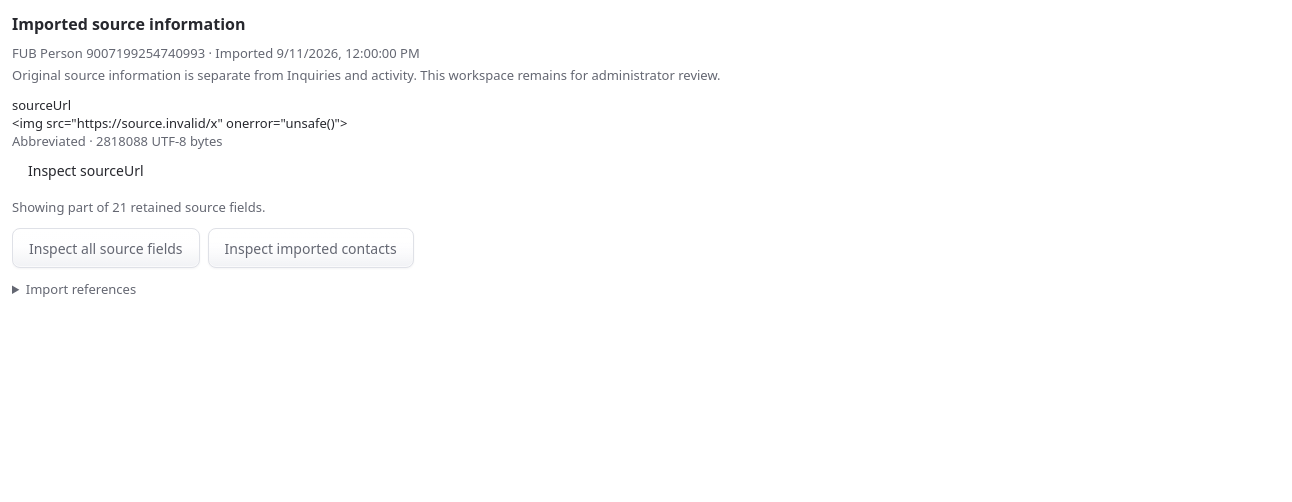
Test: PersonImportProvenance › shows exact attribution and abbreviation, escapes source text, and explicitly opens a bounded field
Click the button "Inspect sourceUrl" at (86, 170), box [12,150,160,190]
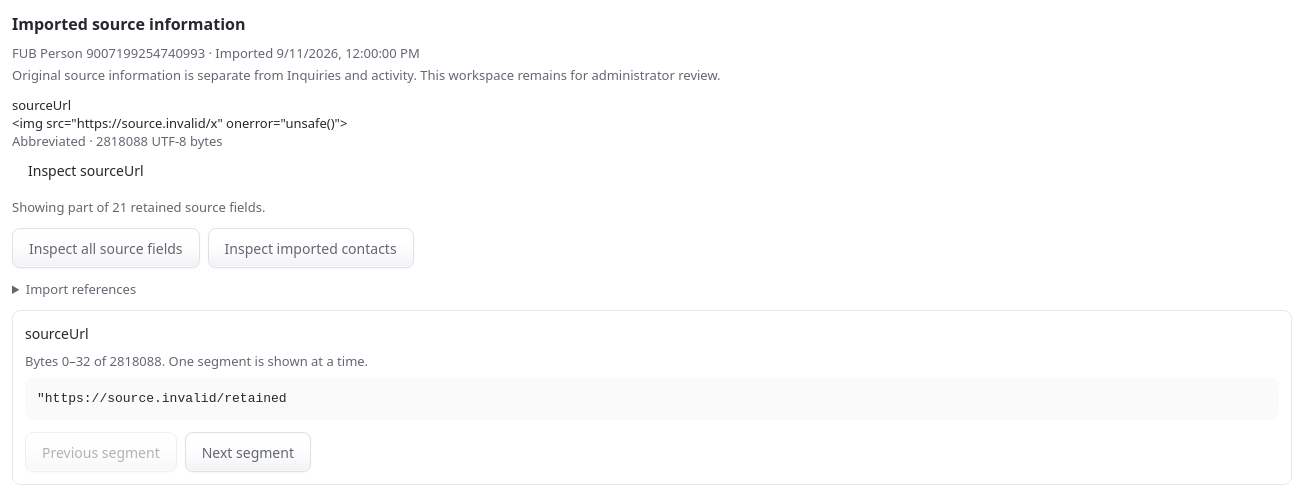
Now the text "\"https://source.invalid/retained" is shown, box [25,378,1279,420]
